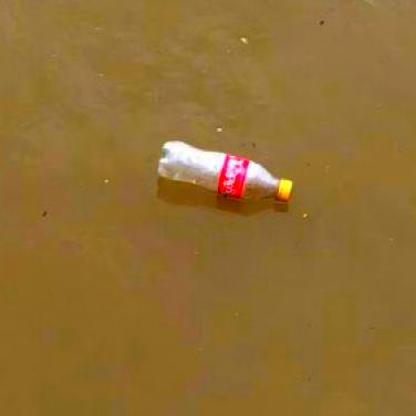plastic bottle: (158, 140, 293, 201)
